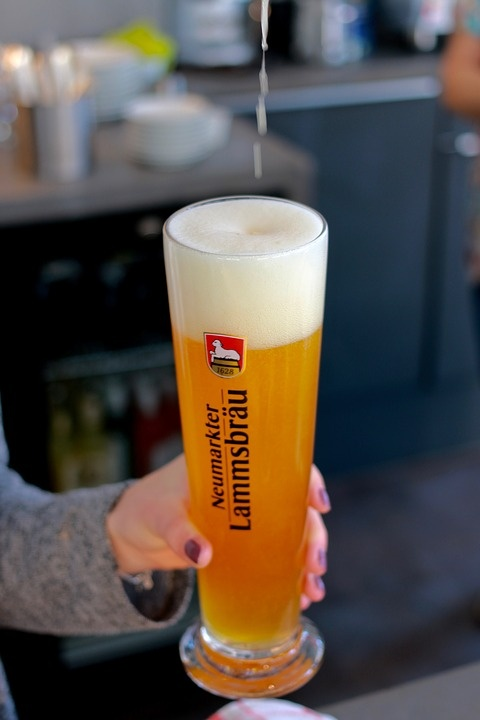glassBeer: (170, 202, 337, 694)
